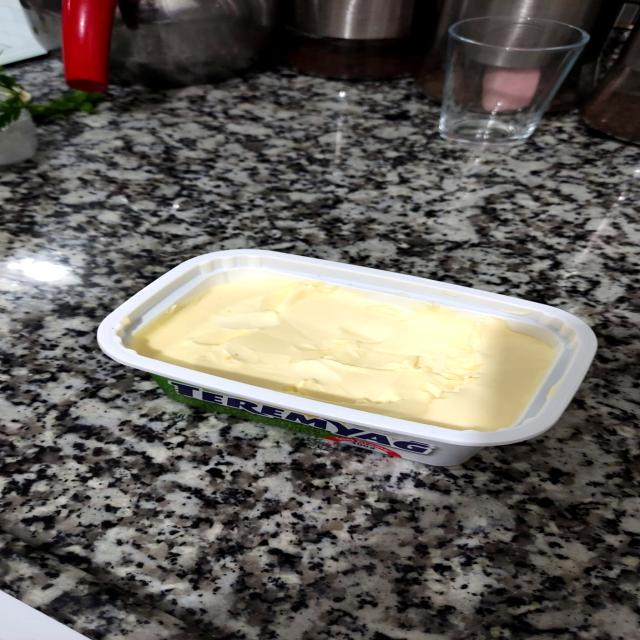margarine: (103, 242, 598, 464)
